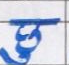u_matra: (0, 46, 35, 63)
